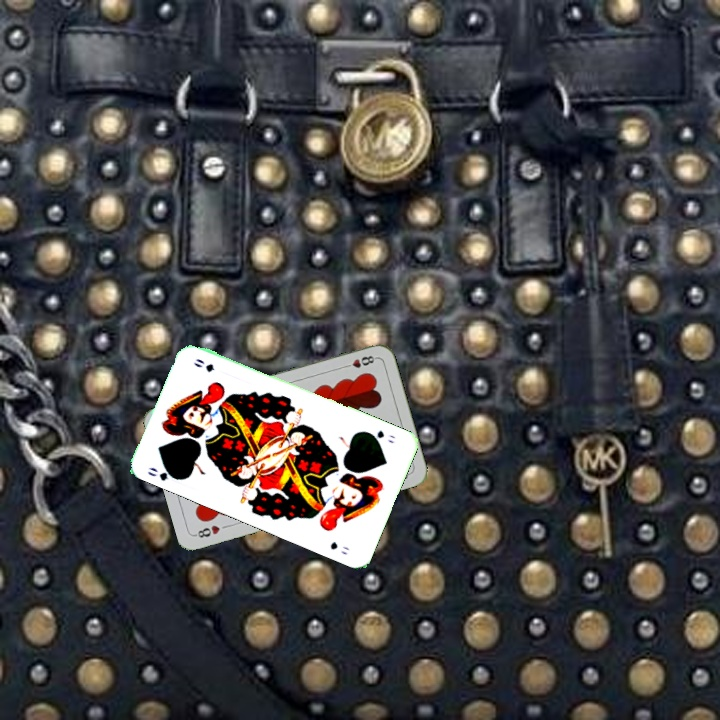GO: (143, 463, 182, 484), (363, 426, 397, 446)
H8: (339, 351, 379, 371), (191, 521, 222, 540)
